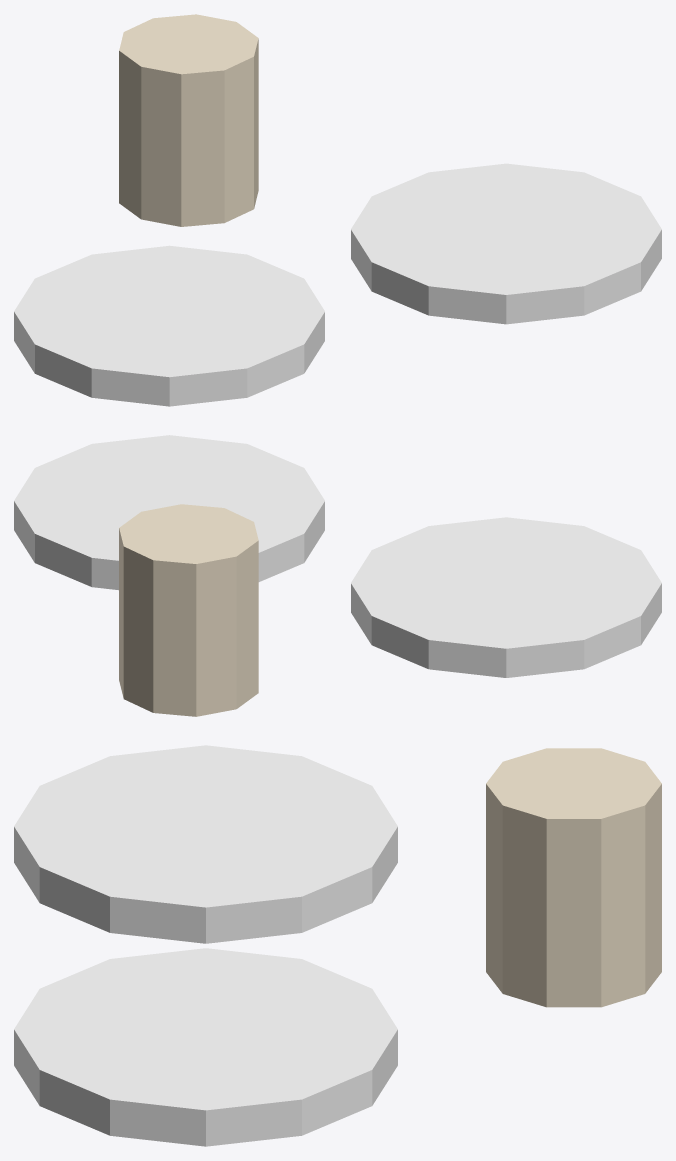
3 views of the same model, one above another, from view 1: azimuth 30°, elevation 25°; view 2: azimuth 150°, elevation 25°; view 3: azimuth 270°, elevation 25° (orthographic). The views are drawn at different scales.
Visible parts, largest first — view 1: Plate.001, Plate, Cup; view 2: Plate, Plate.001, Cup; view 3: Plate, Plate.001, Cup.
Boxes of the visible parts, x1,y1,x2,y2 form: Plate.001: [351, 163, 661, 324]; Plate: [14, 245, 324, 406]; Cup: [119, 14, 258, 226]; Plate: [351, 517, 661, 677]; Plate.001: [14, 435, 324, 590]; Cup: [119, 504, 258, 716]; Plate: [14, 745, 397, 943]; Plate.001: [14, 948, 397, 1146]; Cup: [486, 748, 661, 1007].
Size of the model in its own units: 54 by 13 by 40.5.
